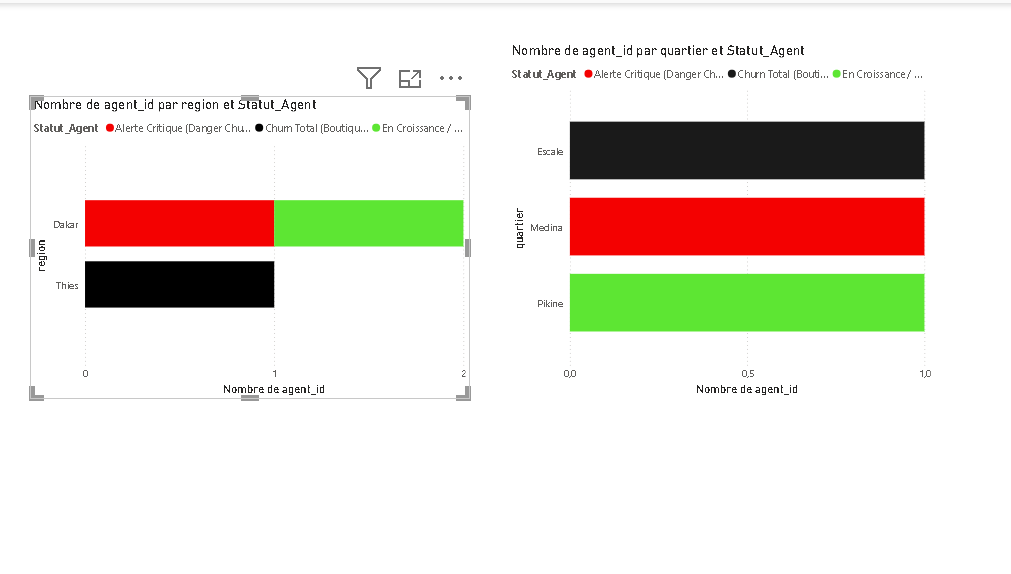

Layout of this report page (visuals, bound fields, positions):
{"tool":"powerbi","page":{"name":"Page 1","canvas":[1280,720],"ordinal":0},"visuals":[{"type":"barChart","fields":{"Y":["CountNonNull(churn_agents_senegal.agent_id)"],"Category":["churn_agents_senegal.region"],"Series":["churn_agents_senegal.Statut_Agent"]},"box":[37.8,117.2,553.7,381.7],"z":0},{"type":"barChart","fields":{"Category":["churn_agents_senegal.quartier"],"Series":["churn_agents_senegal.Statut_Agent"],"Y":["CountNonNull(churn_agents_senegal.agent_id)"]},"box":[640.6,49.1,536.7,449.8],"z":1}]}

Visuals, with their boxes in screenshot pixels (x1, y1, x2, y2), scaled from the page's 1280x720 canvas onto the 1011x574 screenshot:
barChart - CountNonNull(churn_agents_senegal.agent_id) x churn_agents_senegal.region: (30,93,467,398)
barChart - churn_agents_senegal.quartier x churn_agents_senegal.Statut_Agent: (506,39,930,398)
